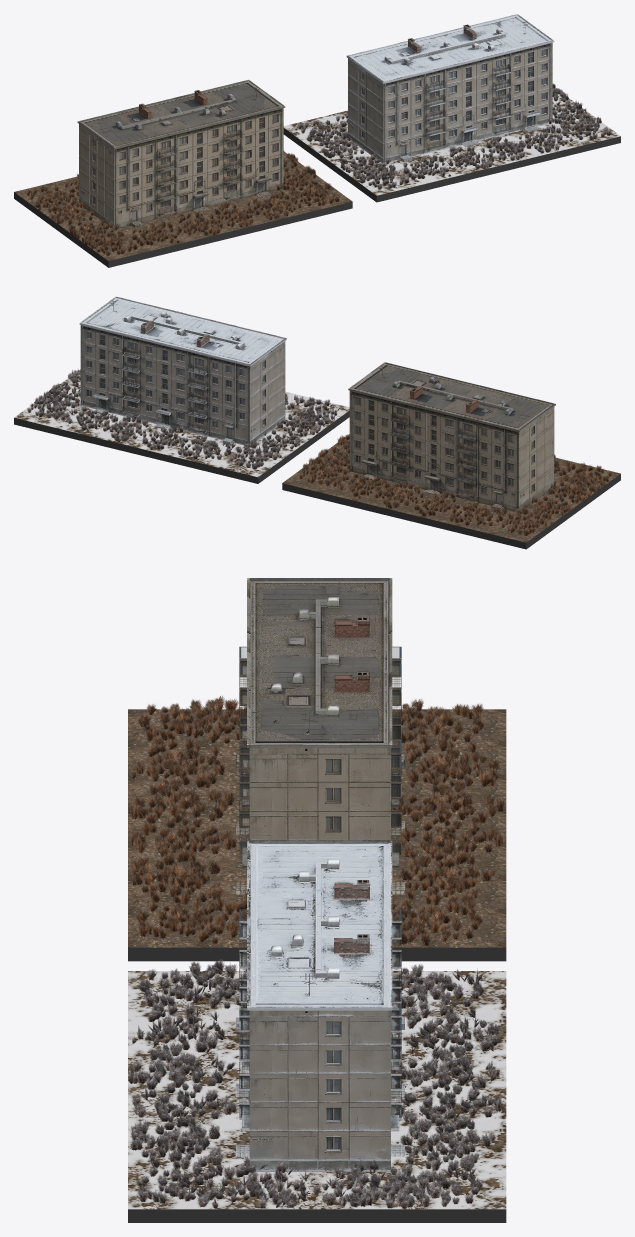
File: bBrutal.glb
The picture shows the model from 3 angles, top to bottom: view 1: azimuth 30°, elevation 25°; view 2: azimuth 150°, elevation 25°; view 3: azimuth 270°, elevation 25°; orthographic projection. The views are drawn at different scales.
Visible parts, largest first — view 1: Object_8, Object_5, Object_13, Object_11, Object_15, Object_17, Object_19, Object_6; view 2: Object_8, Object_5, Object_13, Object_11, Object_15, Object_17, Object_19, Object_6; view 3: Object_8, Object_5, Object_11, Object_13, Object_15, Object_17, Object_19, Object_6.
Boxes of the visible parts, <box> form: Object_8: <box>346,14,554,163</box>; Object_5: <box>77,79,285,228</box>; Object_13: <box>26,151,339,255</box>; Object_11: <box>297,83,611,189</box>; Object_15: <box>283,88,620,195</box>; Object_17: <box>14,151,352,261</box>; Object_19: <box>14,128,620,267</box>; Object_6: <box>157,64,510,215</box>; Object_8: <box>79,296,286,445</box>; Object_5: <box>348,362,555,511</box>; Object_13: <box>299,434,611,535</box>; Object_11: <box>27,369,340,469</box>; Object_15: <box>14,369,349,477</box>; Object_17: <box>282,434,620,542</box>; Object_19: <box>14,410,620,549</box>; Object_6: <box>122,347,476,498</box>; Object_8: <box>235,840,404,1171</box>; Object_5: <box>235,578,404,894</box>; Object_11: <box>128,959,502,1208</box>; Object_13: <box>129,696,505,945</box>; Object_15: <box>128,971,506,1209</box>; Object_17: <box>128,709,506,947</box>; Object_19: <box>128,947,506,1222</box>; Object_6: <box>239,646,401,1117</box>.
Bounding box in the file's own units: 1.85 × 0.3432 × 0.5901.
8 materials, 7 textured.
